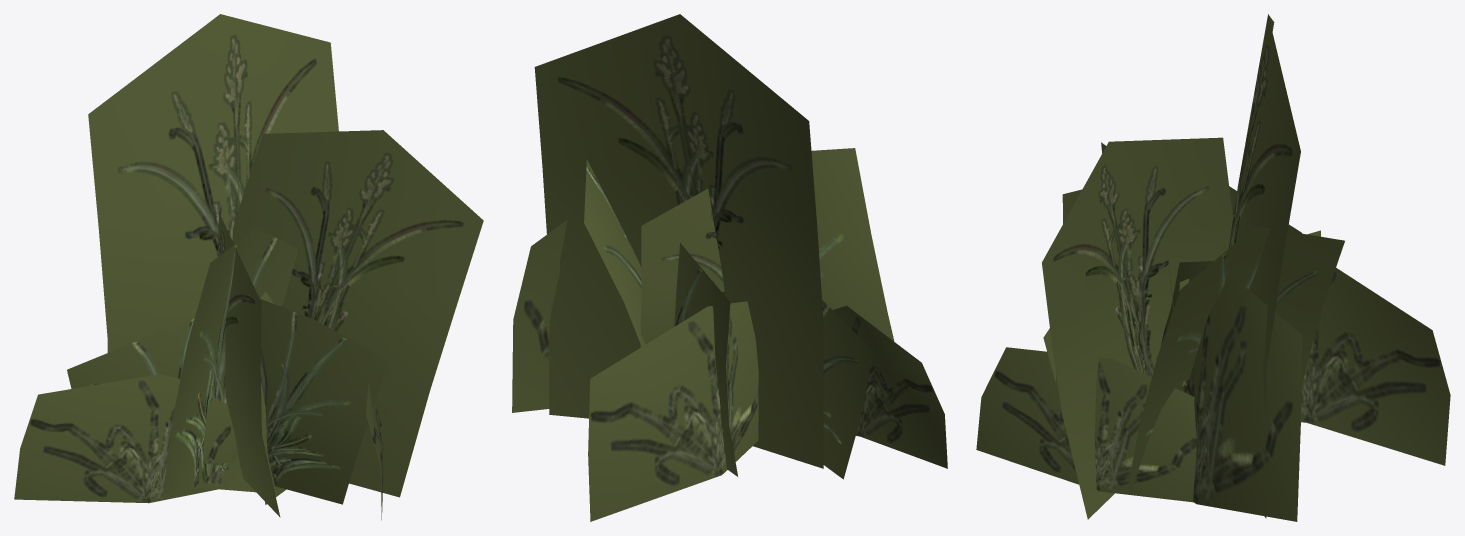
The model's file is SM_Grass_small_clump_A2.fbx.
The picture shows the model from 3 angles, left to right: view 1: azimuth 30°, elevation 25°; view 2: azimuth 150°, elevation 25°; view 3: azimuth 270°, elevation 25°; orthographic projection. The views are drawn at different scales.
Parts seen in each view (by area): view 1: SM_Grass_small_clump_A2; view 2: SM_Grass_small_clump_A2; view 3: SM_Grass_small_clump_A2.
Boxes of the visible parts, left/top/right/bottom form: SM_Grass_small_clump_A2: left=14, top=14, right=483, bottom=520; SM_Grass_small_clump_A2: left=512, top=14, right=947, bottom=521; SM_Grass_small_clump_A2: left=976, top=14, right=1450, bottom=521.
Bounding box in the file's own units: 51.23 × 56.57 × 52.24.
